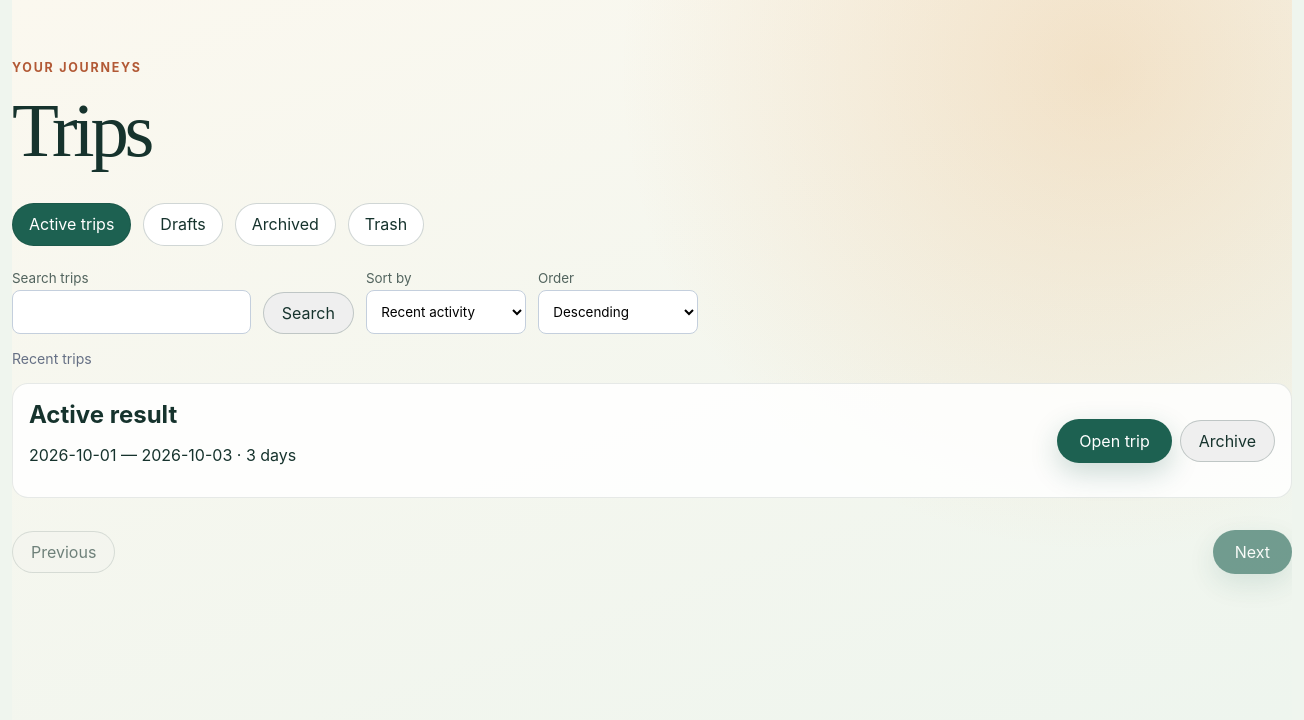
Test: E2E-008 Trip list and recycle bin › ignores stale responses and isolates cached pages by query
This screenshot has width=1304, height=720.
Expected: the heading "Active result" is shown, [29, 400, 177, 429]
Type "first" into the field labelled "Search trips" at point(131, 312), box [12, 290, 251, 334]
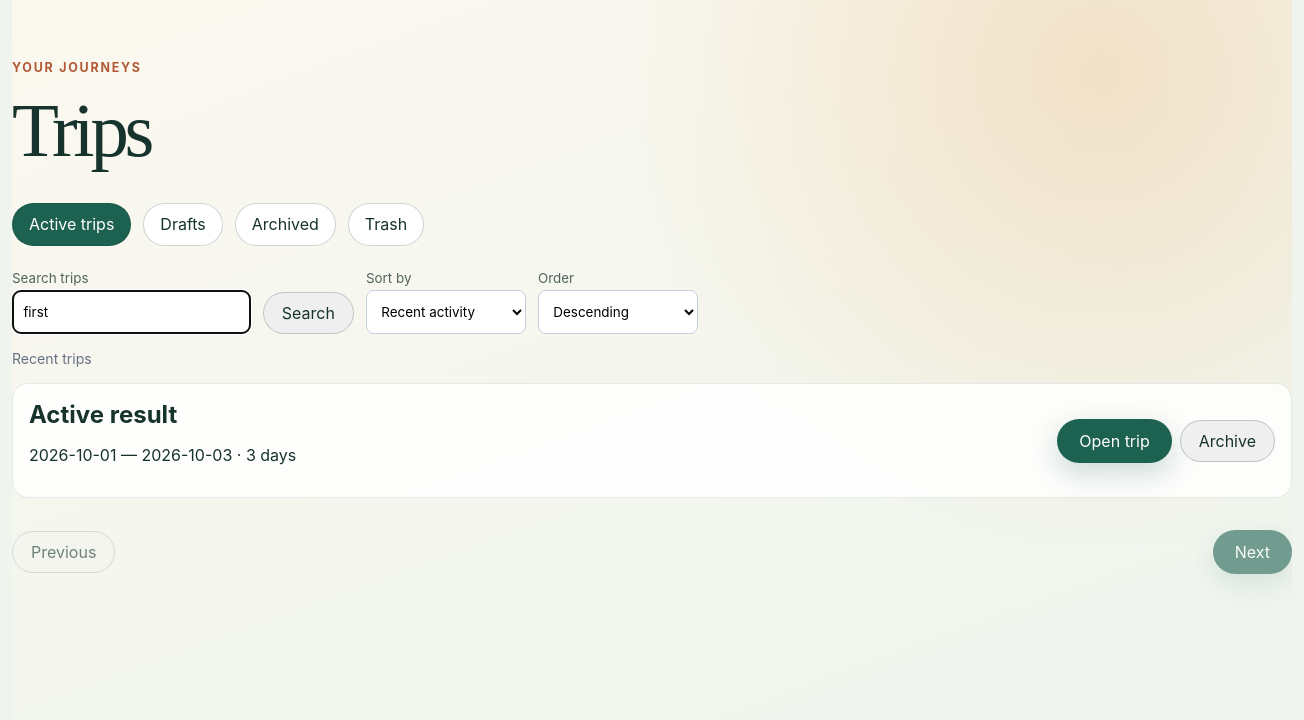
Click the button "Search" at point(308, 313), box [263, 292, 354, 334]
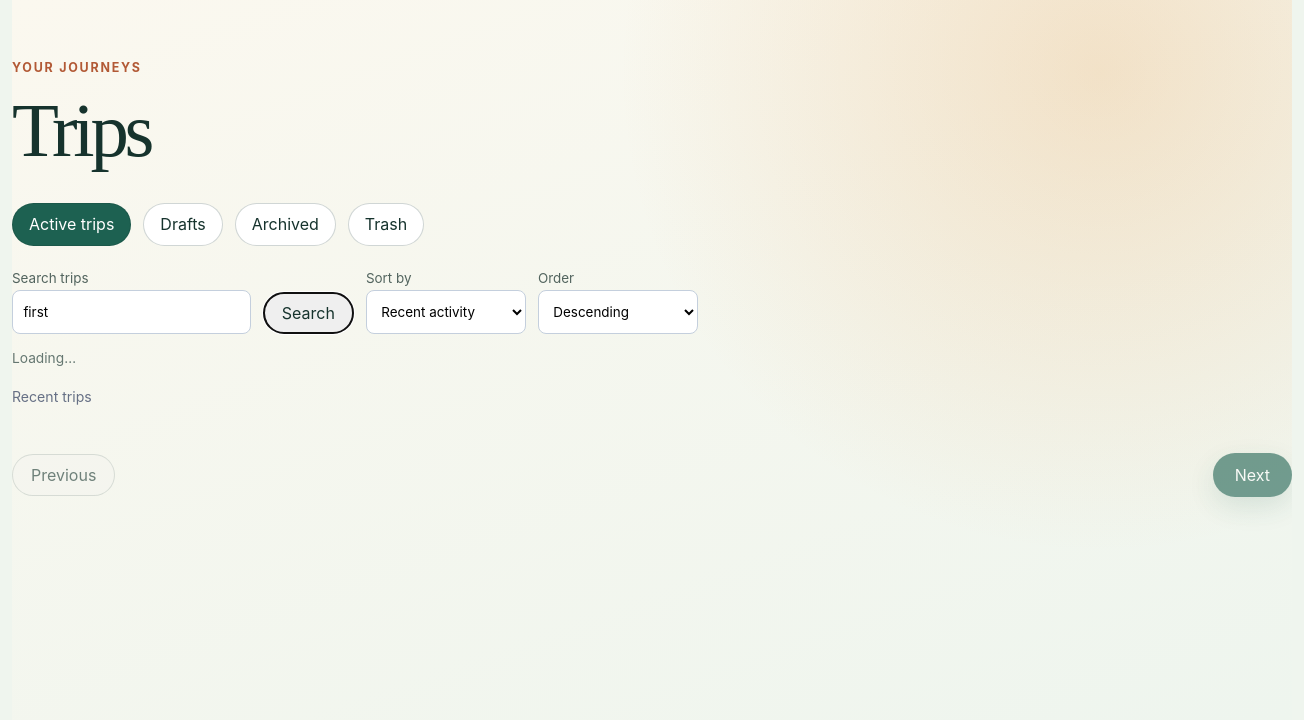
Replace the text in the field labelled "Search trips" with "second" at point(131, 312), box [12, 290, 251, 334]
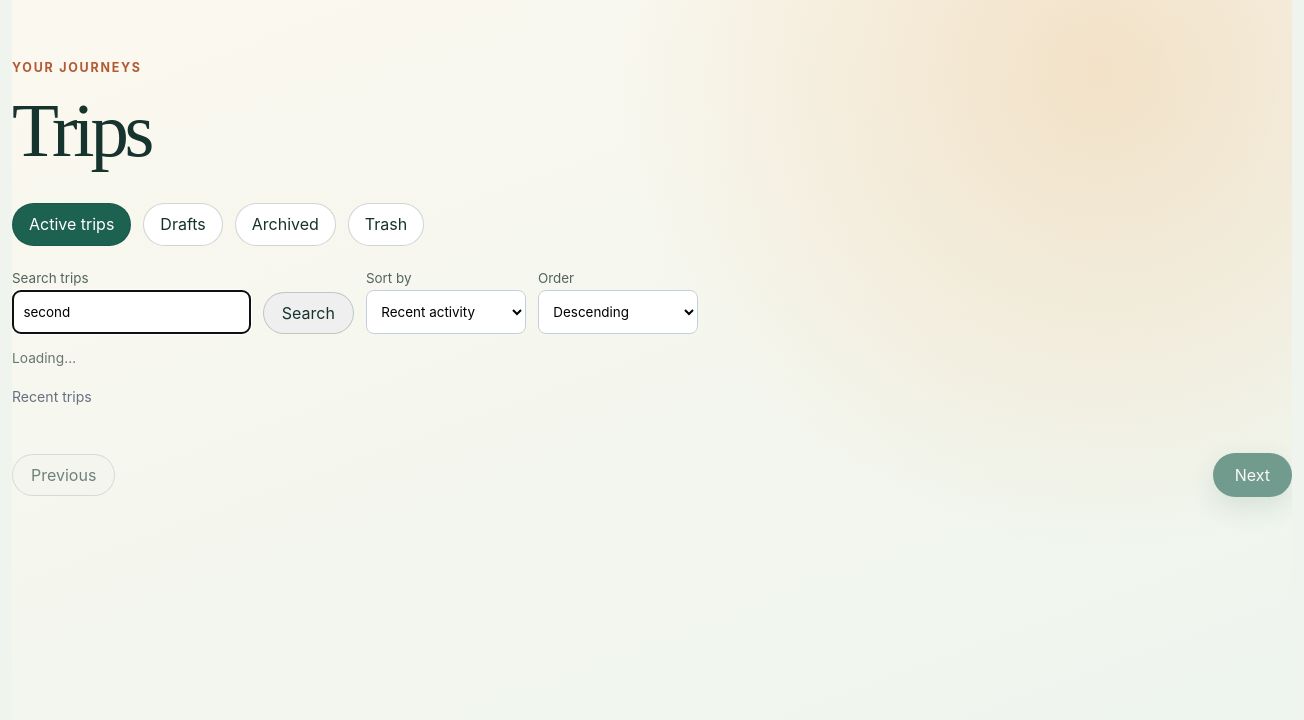
Click the button "Search" at point(308, 313), box [263, 292, 354, 334]
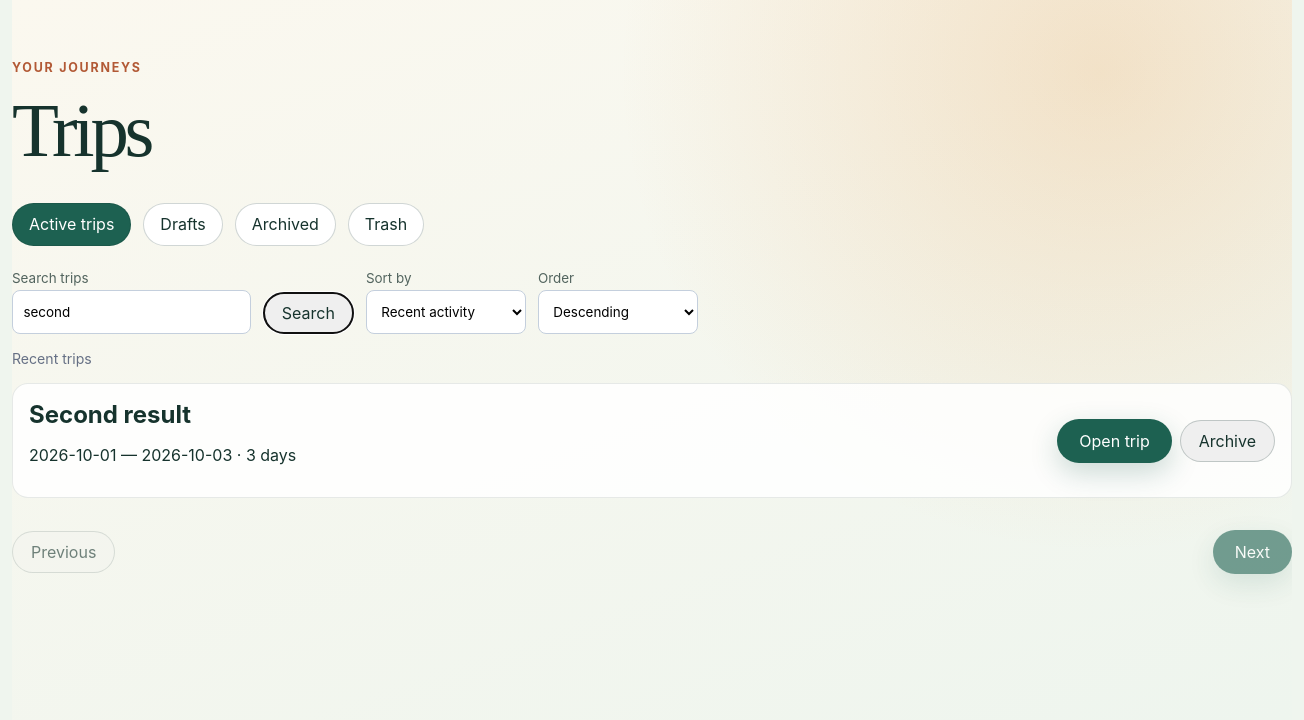
Expected: the heading "Second result" is shown, [29, 400, 191, 429]
Click the tab "Trash" at point(386, 224), box [348, 203, 424, 246]
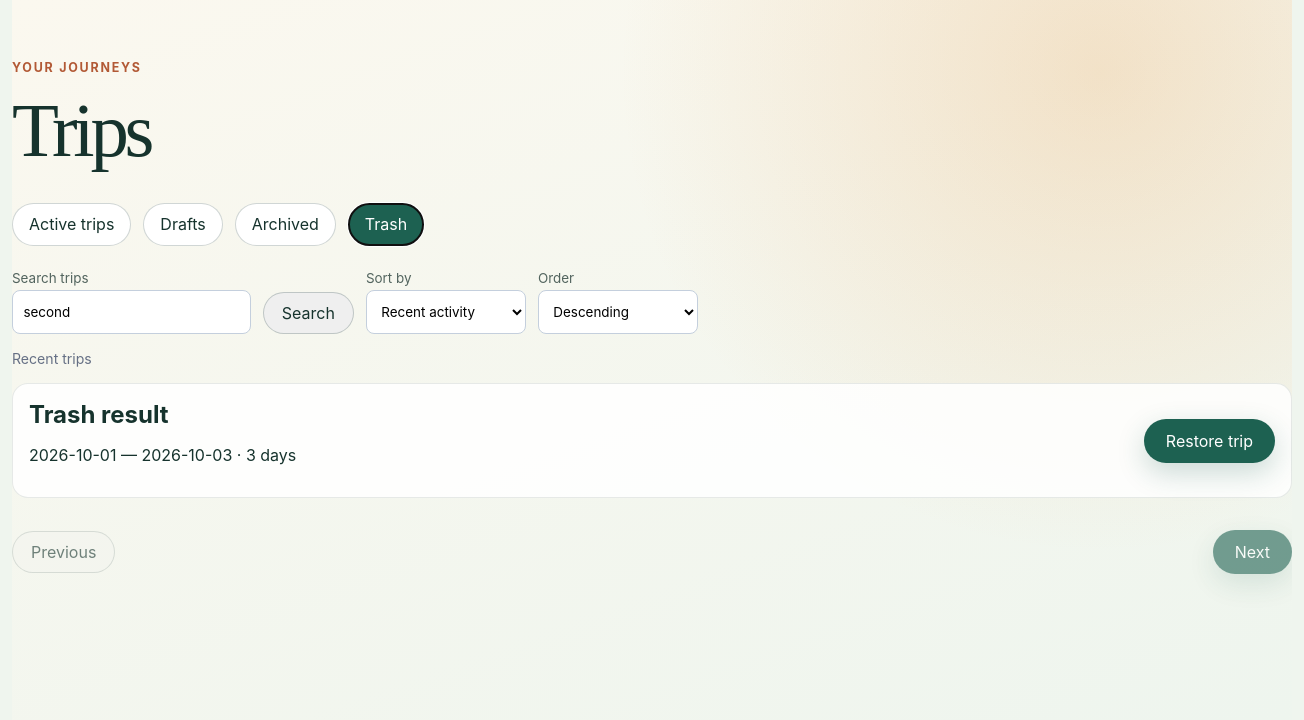
Expected: the heading "Second result" is gone
Expected: the heading "Trash result" is shown, [29, 400, 169, 429]
